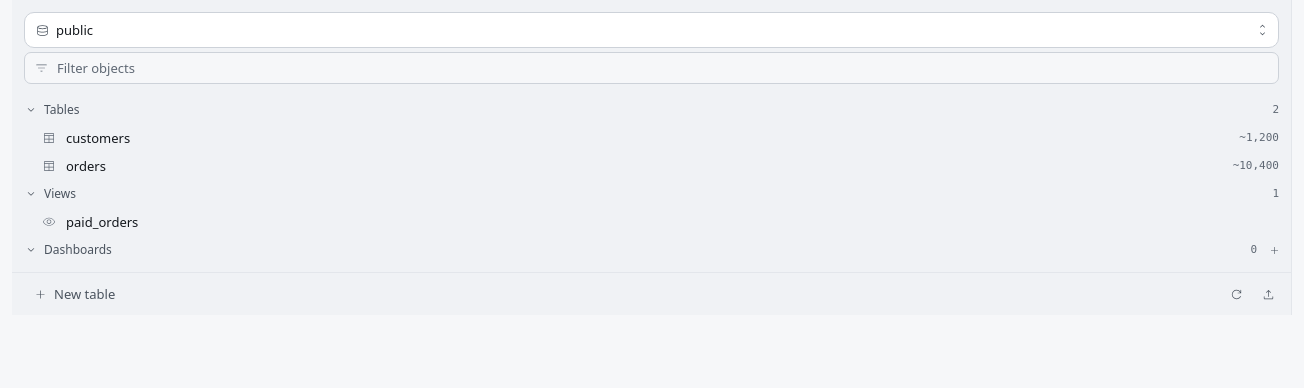
Sidebar: pinned objects › shows nothing pinned until something is pinned, then pins from the context menu
expect the button "Pinned" is not shown: met
Right-click the text "orders": (86, 166) 66,157 -> 106,175
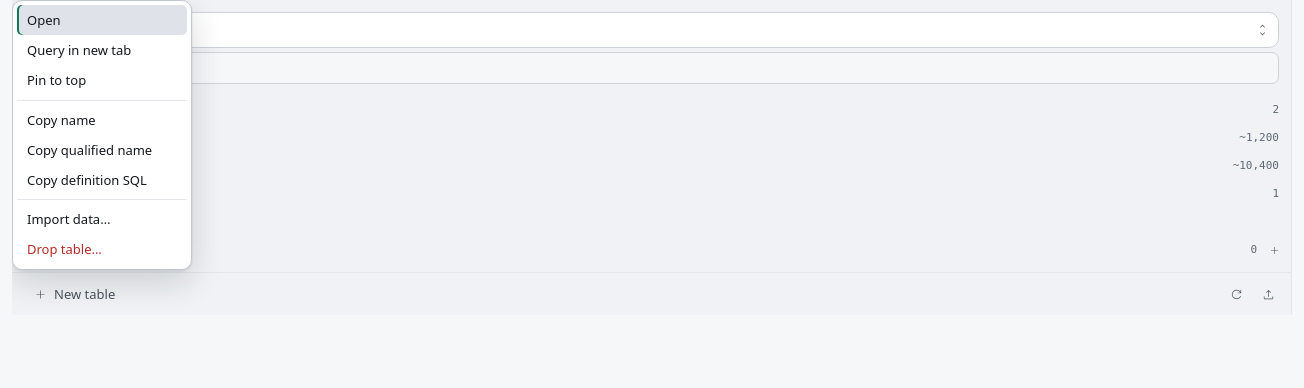
Click the menu item "Pin to top": (102, 80) 17,65 -> 187,96
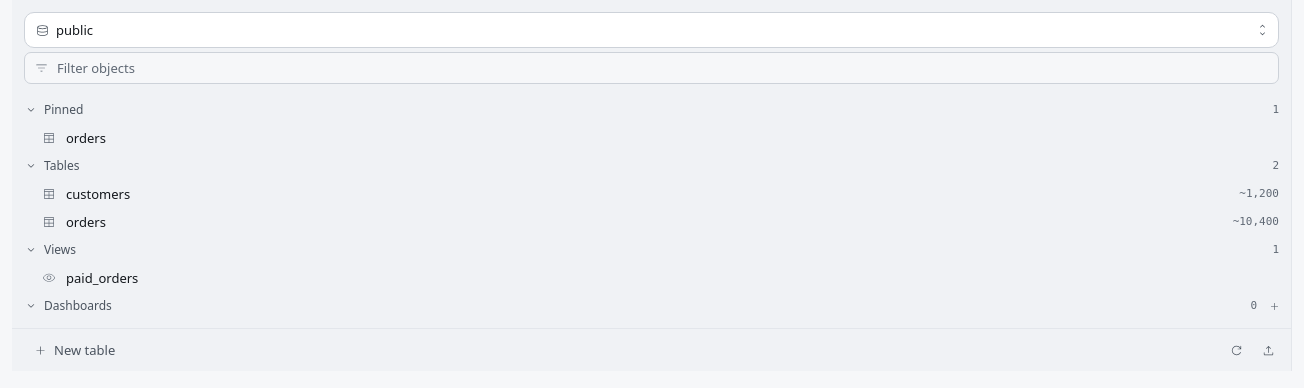
expect the 1st text "orders" is shown: met, box 66,129 -> 106,147
Right-click the list item "orders": (86, 138) 18,124 -> 1285,152
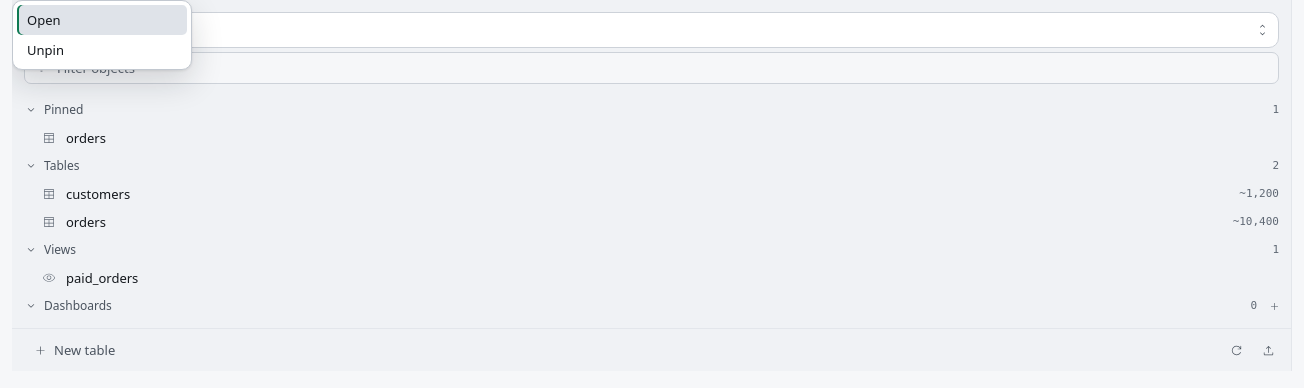
Click the menu item "Unpin": (102, 50) 17,35 -> 187,65
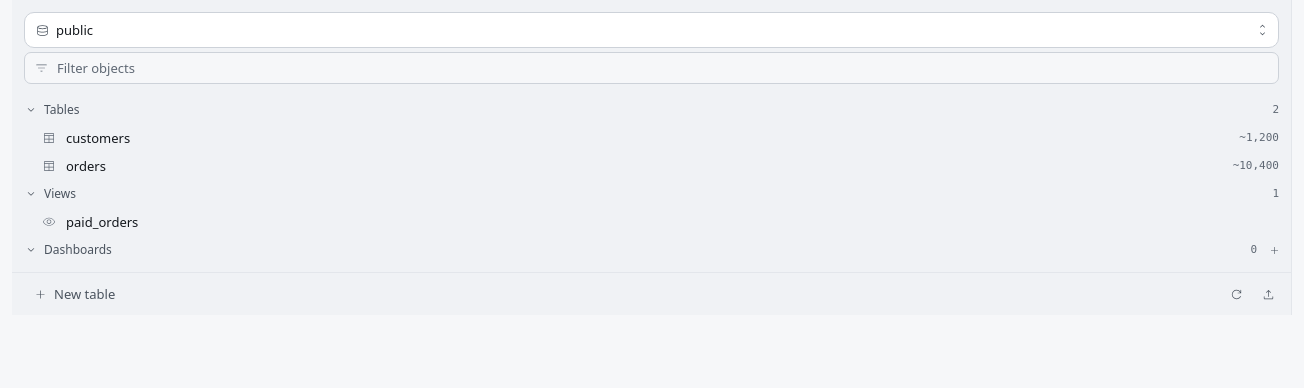
expect the button "Pinned" is gone: met
